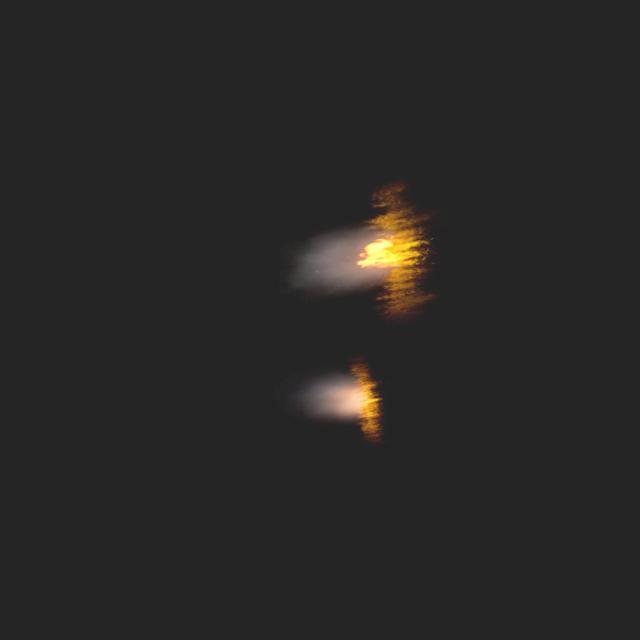fire: (350, 232, 395, 272)
smoke: (286, 222, 389, 296), (302, 366, 376, 425)
